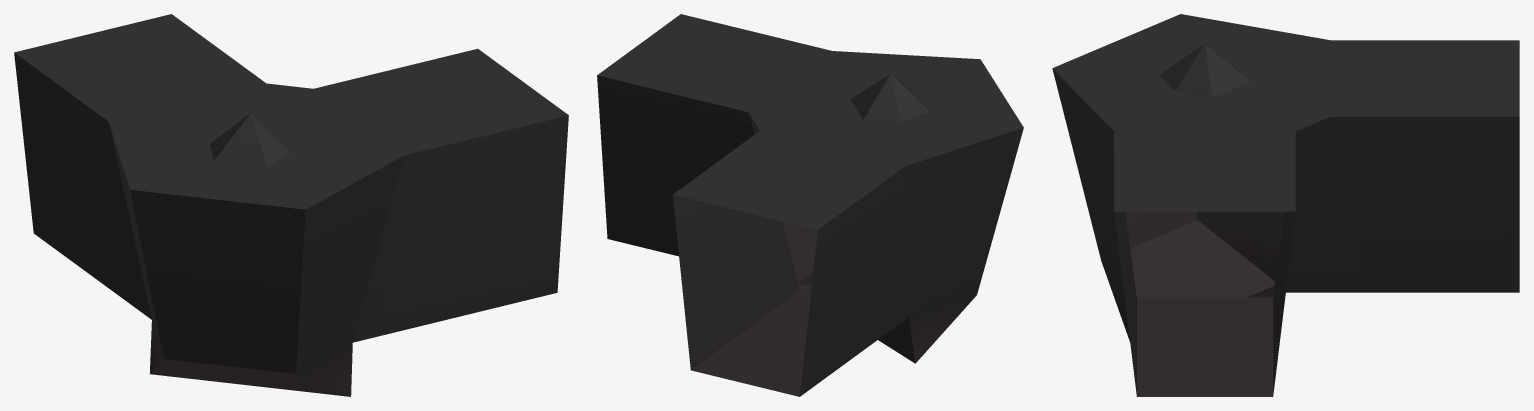
The model's file is SM_RailCorner_01.fbx.
3 renders of one model, left to right at view 1: azimuth 30°, elevation 25°; view 2: azimuth 150°, elevation 25°; view 3: azimuth 270°, elevation 25°, orthographic. The views are drawn at different scales.
Visible parts, largest first — view 1: SM_RailCorner_01; view 2: SM_RailCorner_01; view 3: SM_RailCorner_01.
Boxes of the visible parts, x1,y1,x2,y2 form: SM_RailCorner_01: [14, 14, 568, 396]; SM_RailCorner_01: [597, 14, 1023, 396]; SM_RailCorner_01: [1052, 14, 1519, 396].
Size of the model in its own units: 149 by 95.29 by 149.
1 material, 1 textured.
